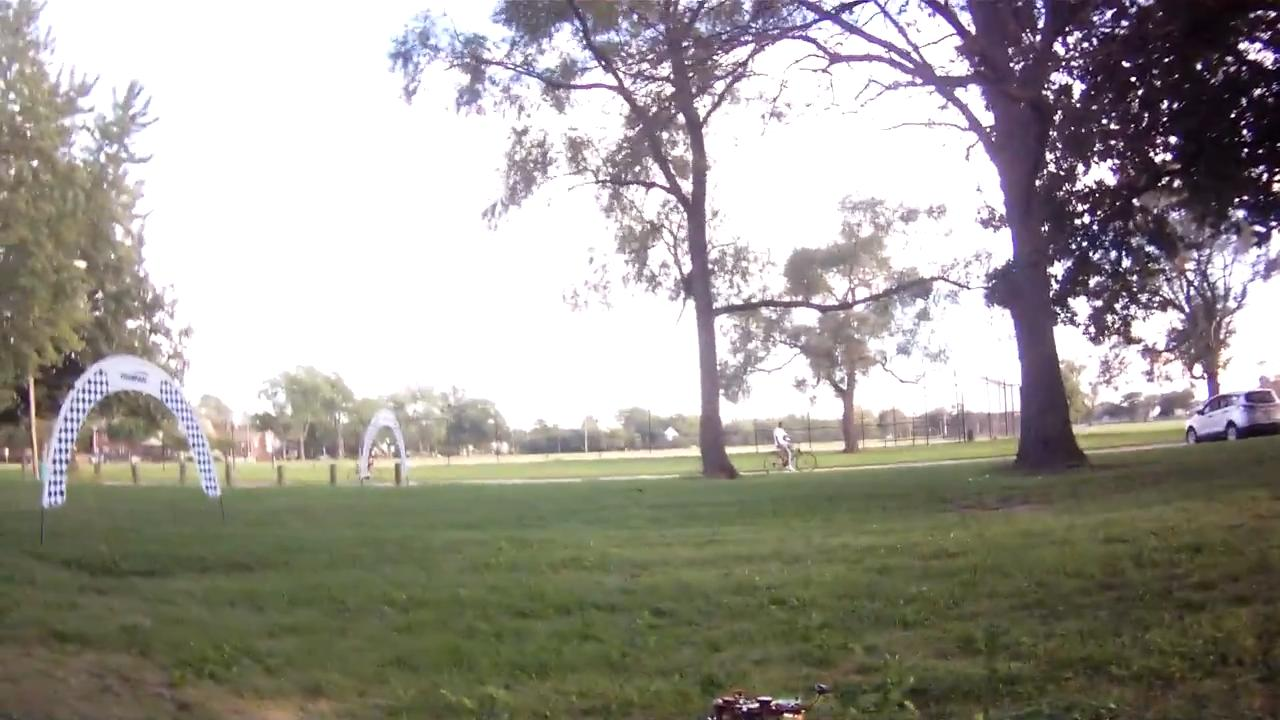gate: (39, 354, 228, 504)
